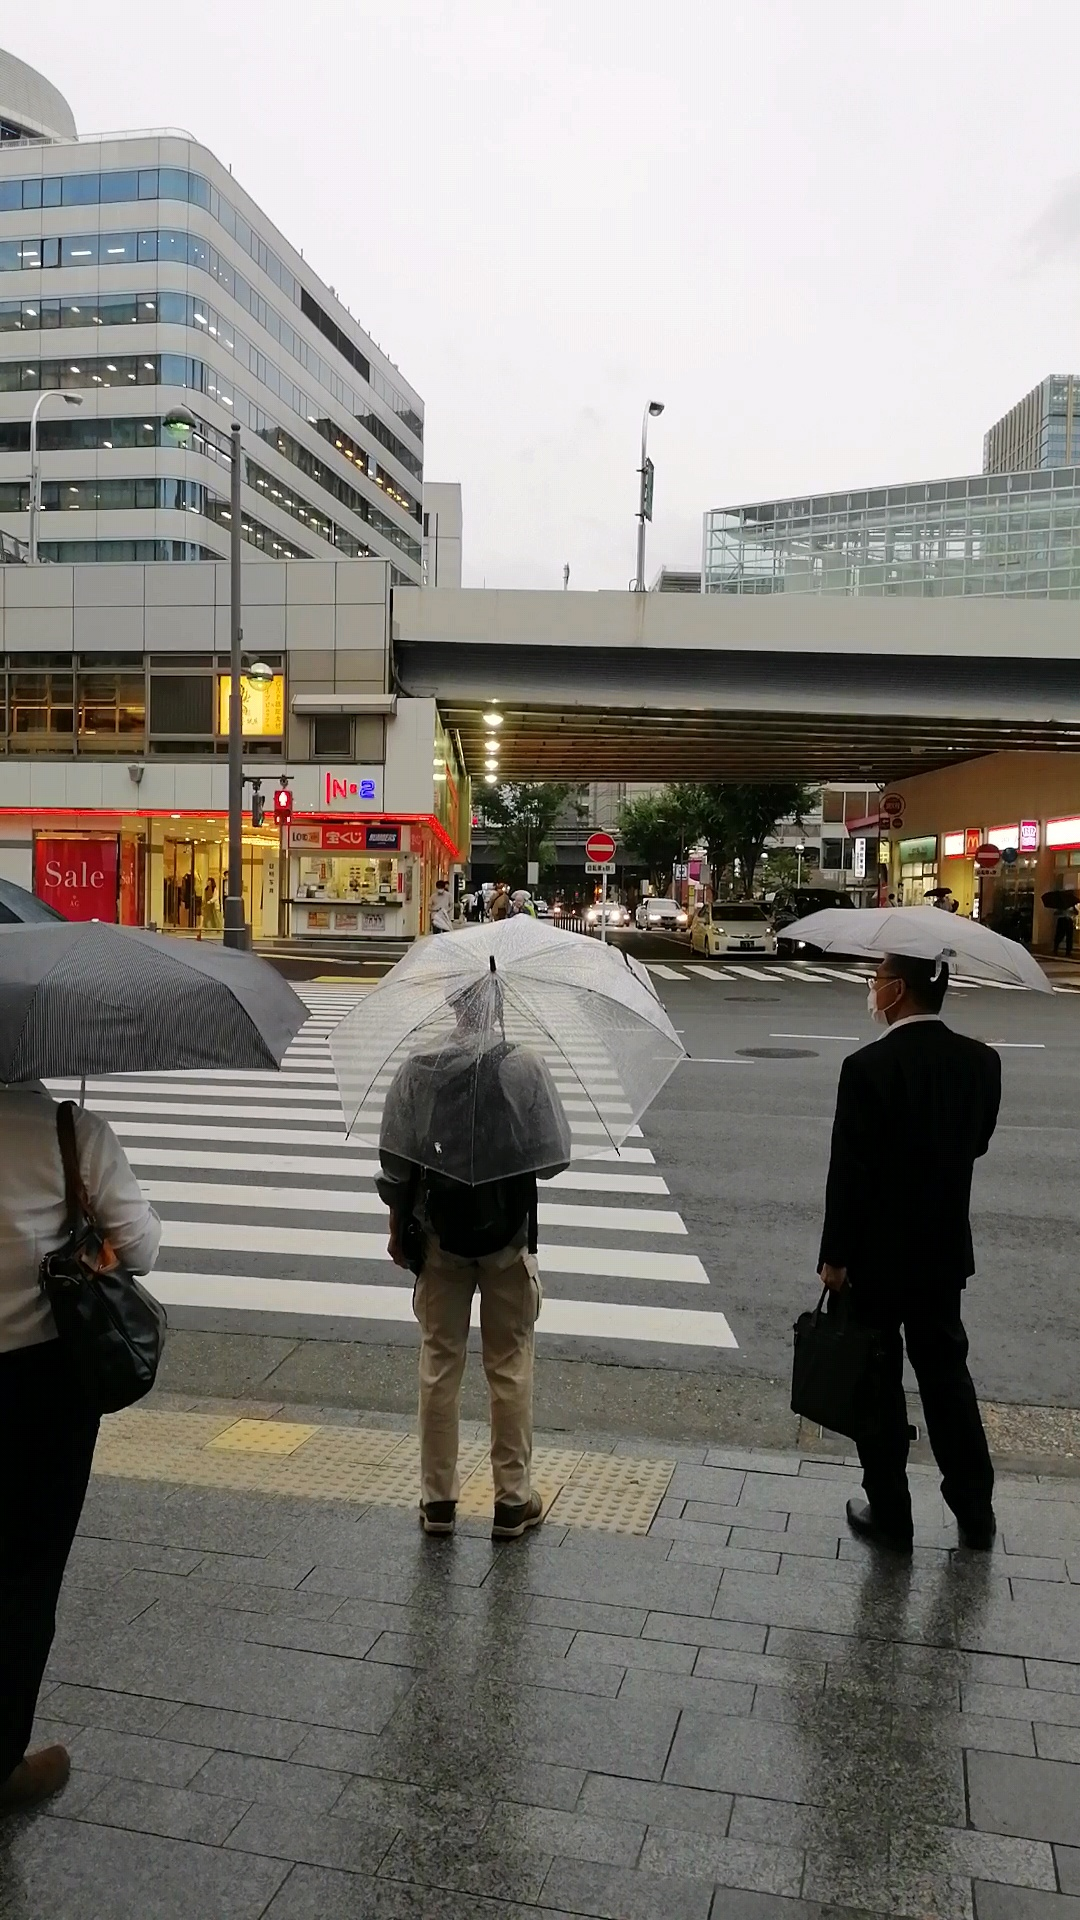red: (273, 789, 291, 825)
